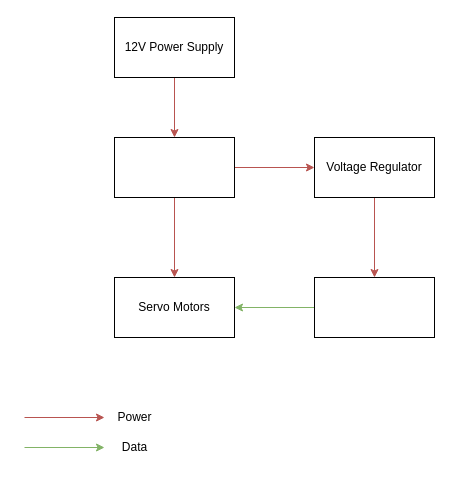
The diagram is 452 pixels wide and 480 high, and some of its shapes have lost their labels. Each missing label, with the centre of its shape:
Battery: the point at 174,167
Microcontroller: the point at 374,307
